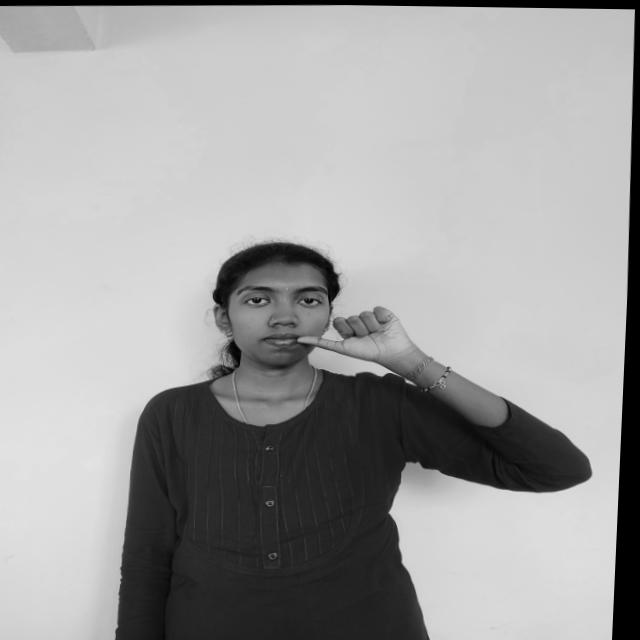Drink: (289, 303, 426, 372)
